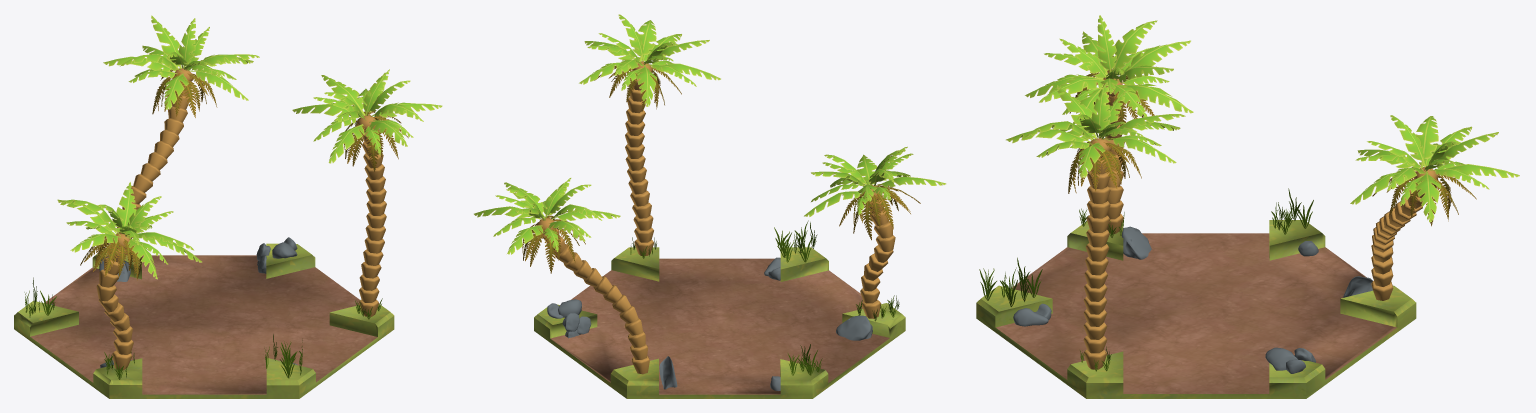
File: HexTile11.fbx
3 renders of one model, left to right at view 1: azimuth 30°, elevation 25°; view 2: azimuth 150°, elevation 25°; view 3: azimuth 270°, elevation 25°, orthographic. The views are drawn at different scales.
Visible parts, largest first — view 1: Terrain_01.010, normalPalm1, grass3.001, rock.003_low.001; view 2: Terrain_01.010, normalPalm1, rock.003_low.001, grass3.001; view 3: Terrain_01.010, normalPalm1, rock.003_low.001, grass3.001.
Boxes of the visible parts, bbox=[...] form: Terrain_01.010: bbox=[14, 243, 394, 398]; normalPalm1: bbox=[57, 15, 442, 370]; grass3.001: bbox=[24, 277, 382, 379]; rock.003_low.001: bbox=[51, 237, 297, 367]; Terrain_01.010: bbox=[534, 247, 905, 398]; normalPalm1: bbox=[474, 14, 946, 374]; rock.003_low.001: bbox=[547, 257, 872, 390]; grass3.001: bbox=[630, 220, 899, 375]; Terrain_01.010: bbox=[976, 220, 1416, 398]; normalPalm1: bbox=[1006, 15, 1519, 369]; rock.003_low.001: bbox=[1013, 226, 1372, 373]; grass3.001: bbox=[979, 188, 1313, 371].
Size of the model in its own units: 2267 by 1499 by 2478.
